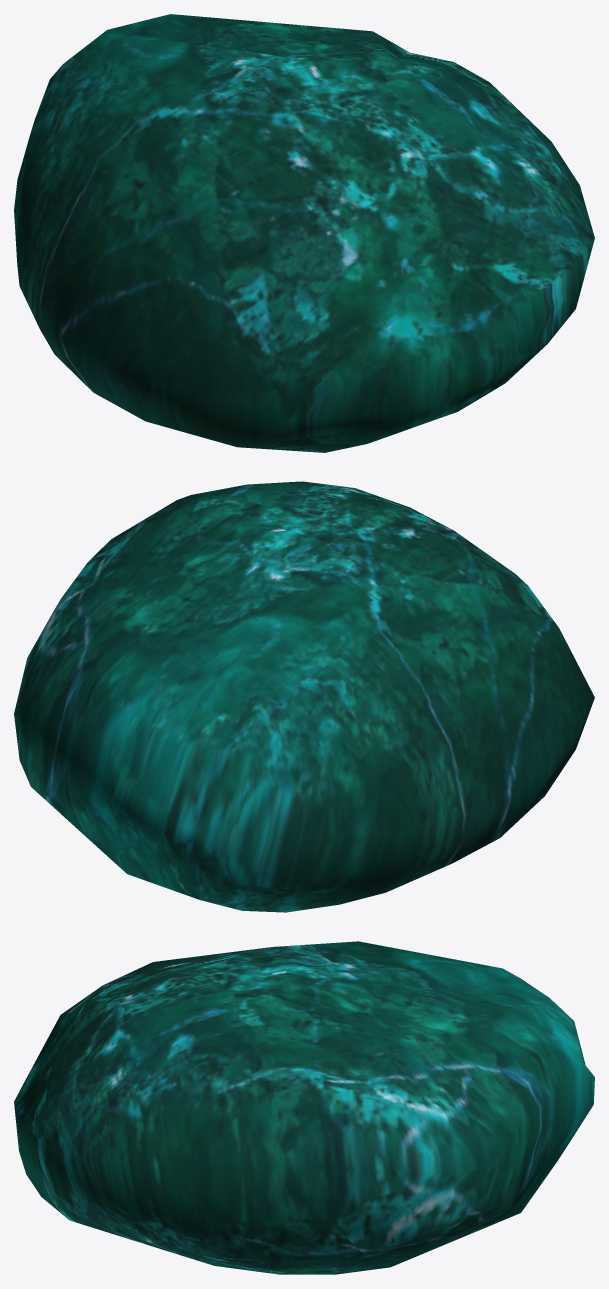
The model's file is topaz.fbx.
3 renders of one model, top to bottom at view 1: azimuth 30°, elevation 25°; view 2: azimuth 150°, elevation 25°; view 3: azimuth 270°, elevation 25°, orthographic. The views are drawn at different scales.
Parts seen in each view (by area): view 1: Sphere01; view 2: Sphere01; view 3: Sphere01.
Boxes of the visible parts, left/top/right/bottom form: Sphere01: left=14, top=14, right=594, bottom=452; Sphere01: left=14, top=481, right=594, bottom=912; Sphere01: left=14, top=941, right=594, bottom=1274.
Bounding box in the file's own units: 39.86 × 25.56 × 49.7.
Materials: 1 (1 with a texture image).
